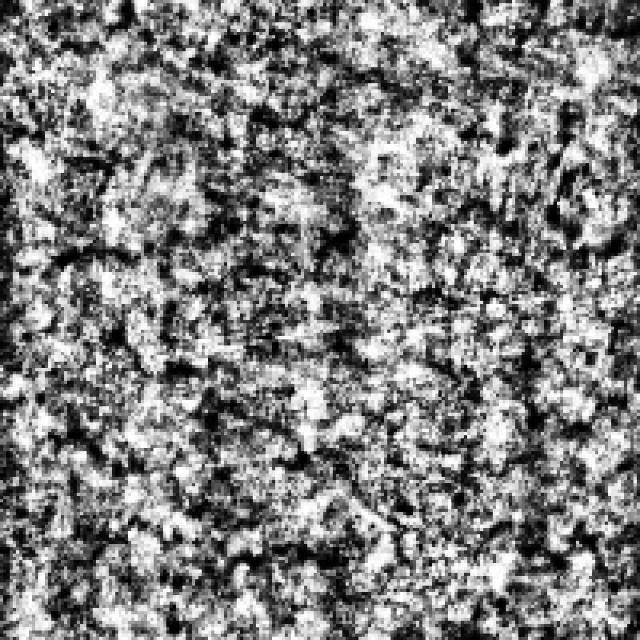Pitted_Surface: (35, 140, 352, 630), (28, 0, 628, 163)
